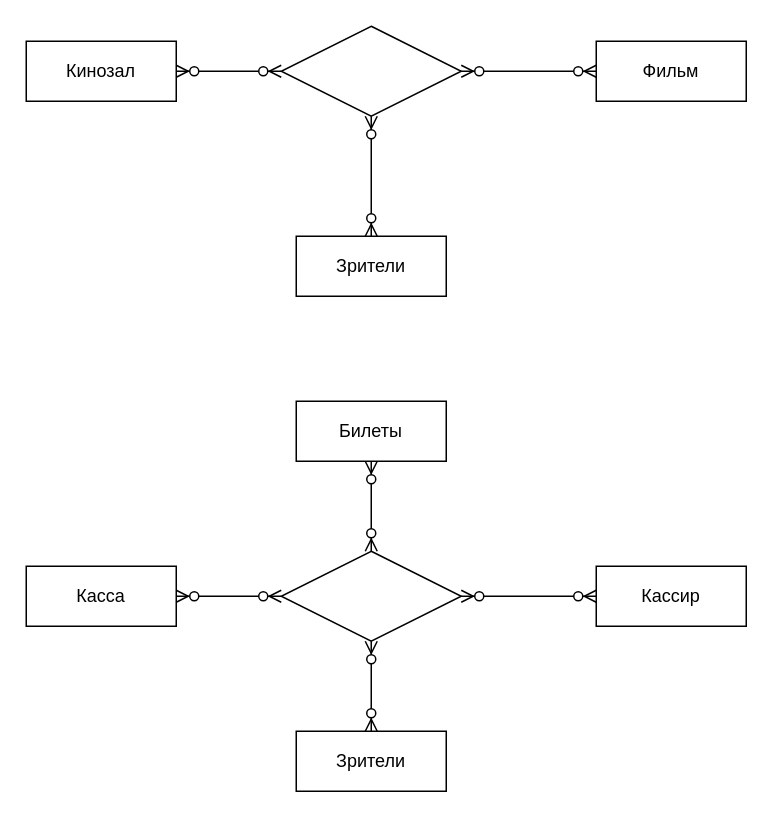
This 773x818 diagram has some shape labels left out. Here are the shapes that lost their labels. From the top down, the box of each, then its label:
(280, 25, 461, 116): Проигрывается
(280, 550, 461, 641): Продаются
